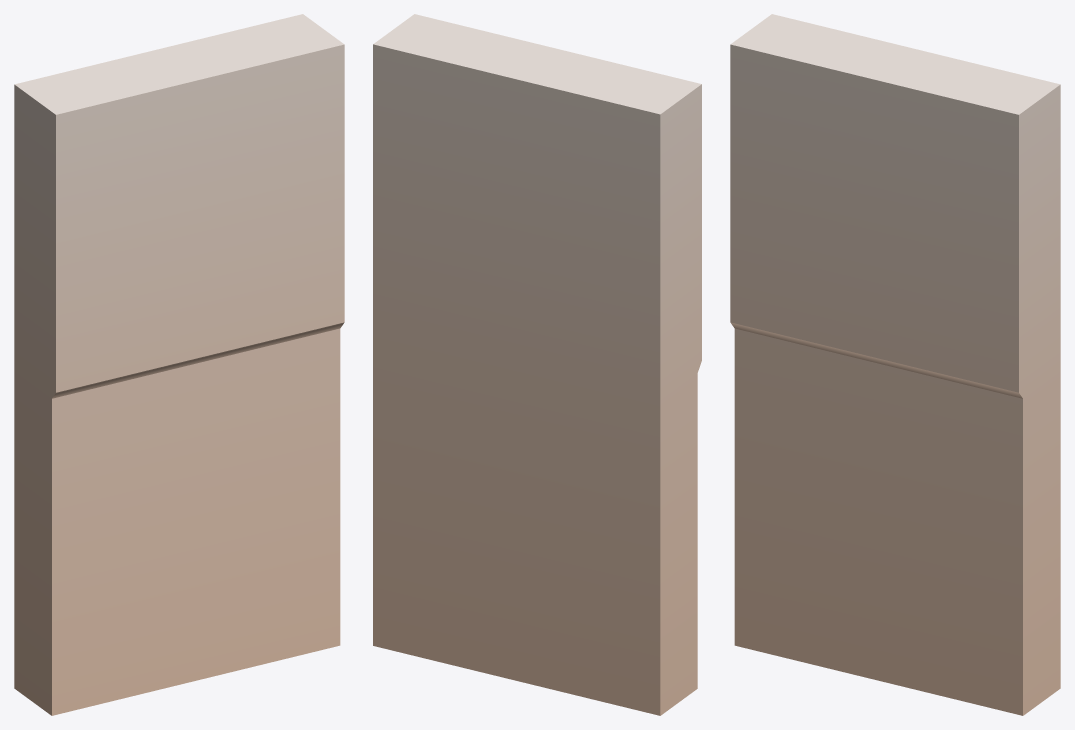
File: Wall Plain Kitchen.glb
3 views of the same model, side by side, from view 1: azimuth 30°, elevation 25°; view 2: azimuth 150°, elevation 25°; view 3: azimuth 330°, elevation 25° (orthographic).
Visible parts, largest first — view 1: wall_plain_kitchen_straight; view 2: wall_plain_kitchen_straight; view 3: wall_plain_kitchen_straight.
Part boxes in pixels (x1=…): wall_plain_kitchen_straight: x1=14, y1=14, x2=344, y2=715; wall_plain_kitchen_straight: x1=373, y1=14, x2=701, y2=715; wall_plain_kitchen_straight: x1=730, y1=14, x2=1060, y2=715.
Bounding box in the file's own units: 2 × 4 × 0.5.
Materials: 1 (1 with a texture image).
